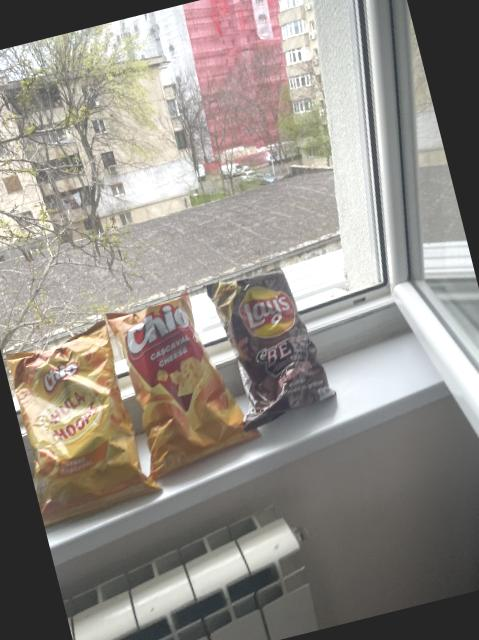Chio Cascaval 125g: (106, 280, 268, 479)
Chio Hula Hoops Cheese 70g: (0, 320, 162, 531)
Lays Beef Grilled Ribs 125g: (208, 260, 342, 428)
